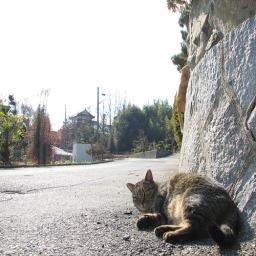catnose: (140, 198, 146, 206)
